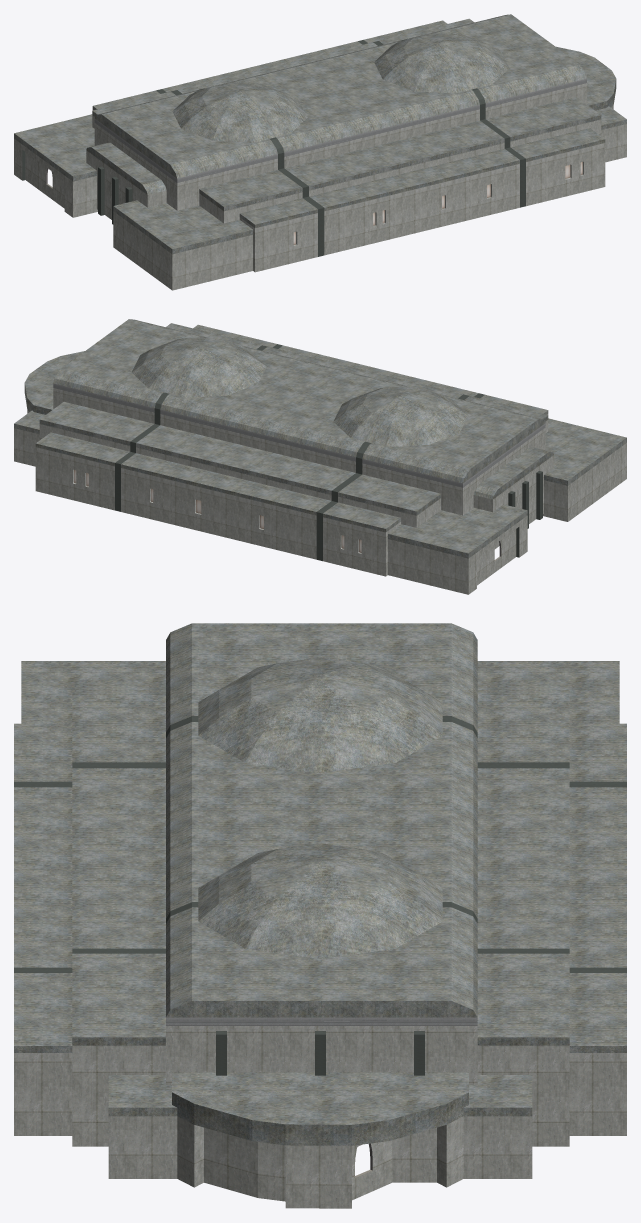
File: thm_corl_cantina_r0_mesh_l1.fbx
3 renders of one model, top to bottom at view 1: azimuth 30°, elevation 25°; view 2: azimuth 150°, elevation 25°; view 3: azimuth 270°, elevation 25°, orthographic. The views are drawn at different scales.
Parts seen in each view (by area): view 1: mesh_node; view 2: mesh_node; view 3: mesh_node.
Part boxes in pixels (x1,y1,x2,y2): mesh_node: (14,14,626,290); mesh_node: (14,319,626,594); mesh_node: (14,623,626,1208).
Bounding box in the file's own units: 101 × 19.97 × 55.66.
